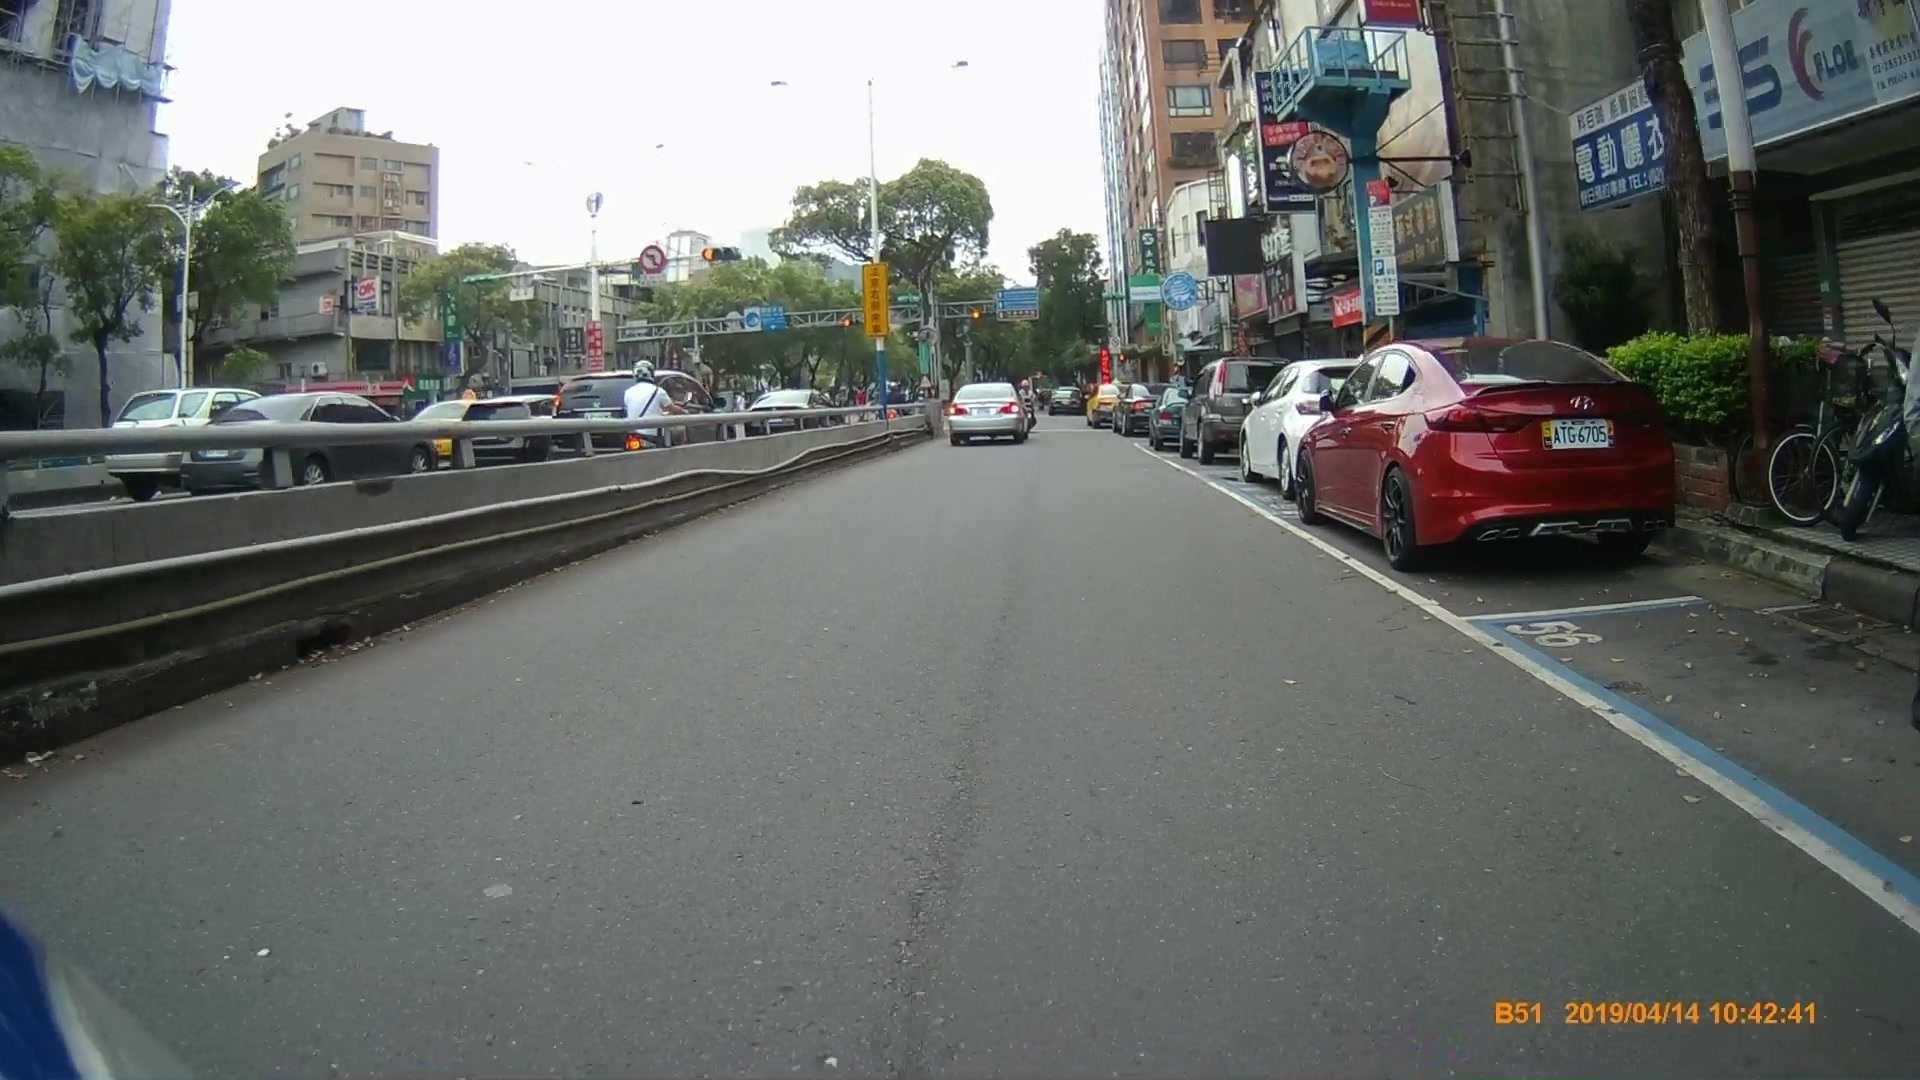License_plate: (1541, 418, 1613, 450), (970, 405, 999, 420)
